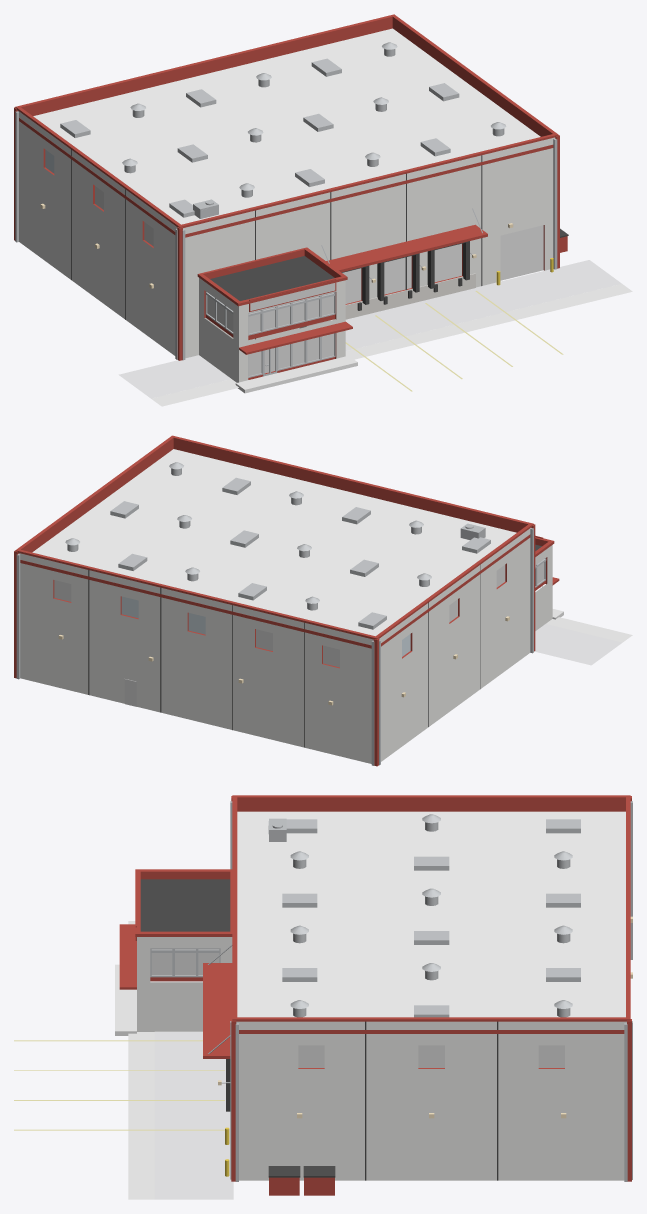
File: industrial_urban120.glb
The picture shows the model from 3 angles, top to bottom: view 1: azimuth 30°, elevation 25°; view 2: azimuth 150°, elevation 25°; view 3: azimuth 270°, elevation 25°; orthographic projection. The views are drawn at different scales.
Visible parts, largest first — view 1: industrial_urban120_Walls, industrial_urban120_Roof, industrial_urban120_Trim, industrial_urban120_Asphalt, industrial_urban120_Roof2, industrial_urban120_Site, industrial_urban120_Frames, industrial_urban120_Doors, industrial_urban120_Details, industrial_urban120_WindowsLit, industrial_urban120_Walls2, industrial_urban120_Paint (+1 smaller); view 2: industrial_urban120_Walls, industrial_urban120_Roof, industrial_urban120_Trim, industrial_urban120_Details, industrial_urban120_Frames, industrial_urban120_Asphalt, industrial_urban120_WindowsLit, industrial_urban120_Roof2, industrial_urban120_Site, industrial_urban120_Glass; view 3: industrial_urban120_Roof, industrial_urban120_Walls, industrial_urban120_Trim, industrial_urban120_Asphalt, industrial_urban120_Roof2, industrial_urban120_Site, industrial_urban120_Frames, industrial_urban120_Details, industrial_urban120_WindowsLit, industrial_urban120_Paint.
Part boxes in pixels (x1,y1,x2,y2): industrial_urban120_Walls: (18,111,555,382); industrial_urban120_Roof: (33,28,540,224); industrial_urban120_Trim: (14,14,567,379); industrial_urban120_Asphalt: (118,260,621,398); industrial_urban120_Roof2: (71,149,568,339); industrial_urban120_Site: (151,284,632,406); industrial_urban120_Frames: (60,58,459,377); industrial_urban120_Doors: (342,225,543,303); industrial_urban120_Details: (15,42,557,366); industrial_urban120_WindowsLit: (95,186,333,375); industrial_urban120_Walls2: (299,273,475,328); industrial_urban120_Paint: (345,291,563,391); industrial_urban120_Walls: (18,528,552,763); industrial_urban120_Roof: (32,449,516,636); industrial_urban120_Trim: (14,435,559,766); industrial_urban120_Details: (16,462,533,765); industrial_urban120_Frames: (110,477,546,629); industrial_urban120_Asphalt: (534,624,621,665); industrial_urban120_WindowsLit: (54,562,544,667); industrial_urban120_Roof2: (88,544,541,747); industrial_urban120_Site: (546,609,632,642); industrial_urban120_Glass: (121,596,410,656); industrial_urban120_Roof: (237,811,625,1017); industrial_urban120_Walls: (137,937,626,1180); industrial_urban120_Trim: (119,795,631,1195); industrial_urban120_Asphalt: (154,981,233,1199); industrial_urban120_Roof2: (140,879,498,1180); industrial_urban120_Site: (115,921,154,1199); industrial_urban120_Frames: (150,819,580,1017); industrial_urban120_Details: (208,801,632,1181); industrial_urban120_WindowsLit: (151,949,564,1067); industrial_urban120_Paint: (14,1040,224,1130).
Size of the model in its own units: 150 by 41.1 by 141.
